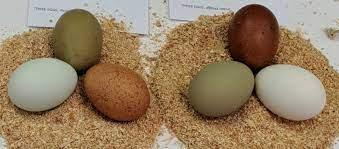egg: (253, 58, 330, 120), (83, 62, 154, 126), (8, 55, 81, 113), (188, 56, 256, 118), (229, 3, 279, 66), (53, 6, 102, 67)
